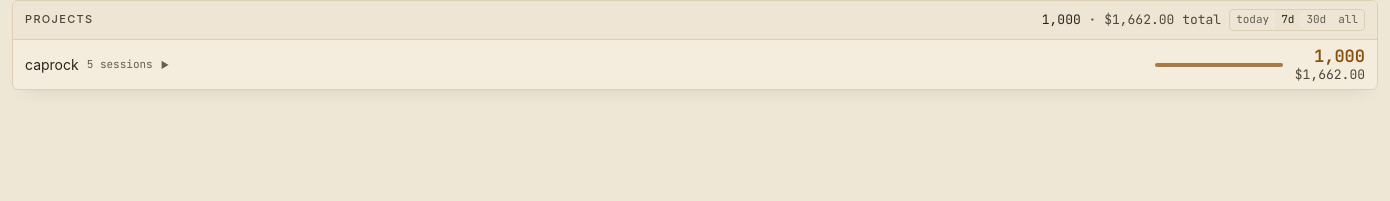
ProjectsPanel › expands a repository into its per-directory breakdown
This screenshot has width=1390, height=201.
Expected: the text "/ui" is not shown
Click the button titled "caprock: show cost by directory".
click(52, 64)  # box [13, 40, 1377, 89]
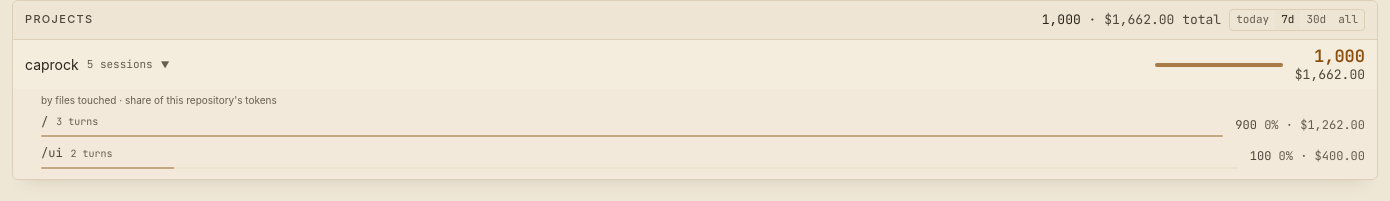
Expected: the text "/ui" is shown, [41, 145, 63, 163]
Expected: the text "· $400.00" is shown, [1293, 148, 1365, 164]
Expected: the text "/" is shown, [41, 114, 48, 131]
Click the button titled "caprock: show cost by directory".
click(52, 64)  # box [13, 40, 1377, 89]
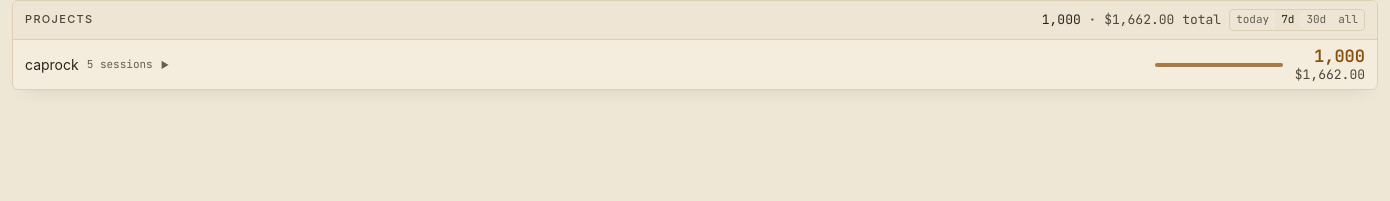
Expected: the text "/ui" is gone
